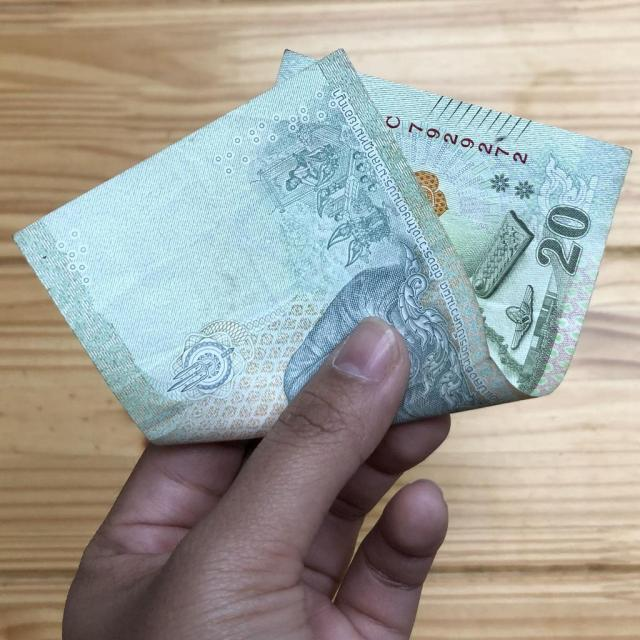THAI20: (15, 50, 629, 443)
